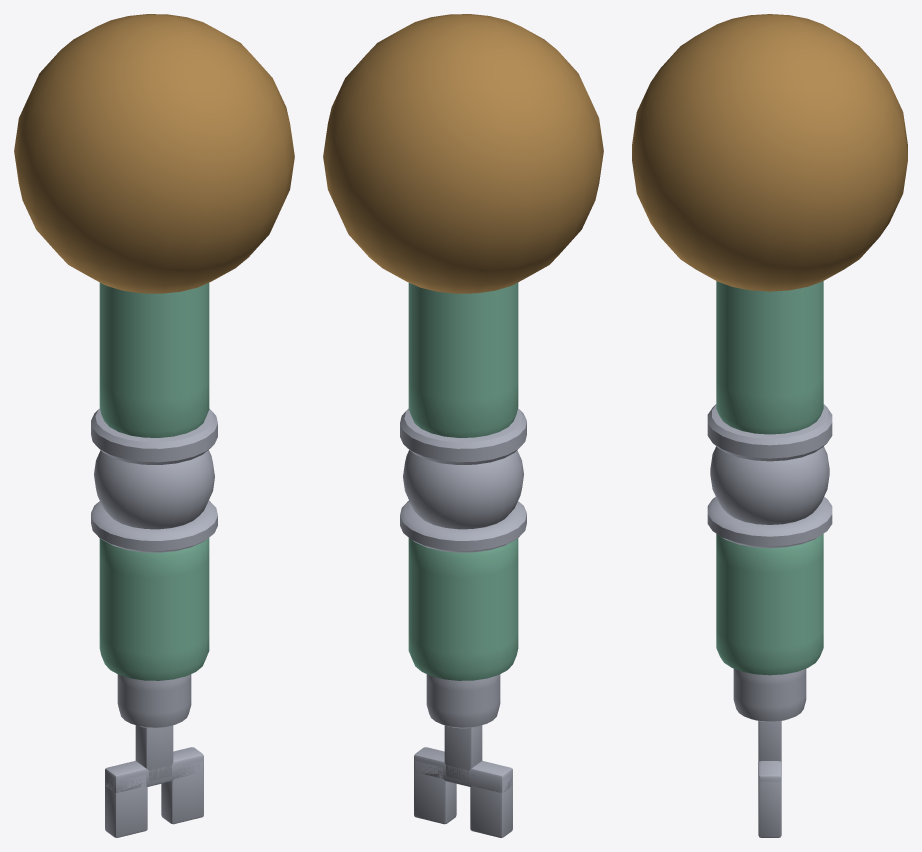
Rendered from Arm_Bot_R.fbx.
The picture shows the model from 3 angles, left to right: view 1: azimuth 30°, elevation 25°; view 2: azimuth 150°, elevation 25°; view 3: azimuth 270°, elevation 25°; orthographic projection.
Parts seen in each view (by area): view 1: Arm_Bot_R; view 2: Arm_Bot_R; view 3: Arm_Bot_R.
Part boxes in pixels (x1,y1,x2,y2): Arm_Bot_R: (14, 14, 294, 837); Arm_Bot_R: (323, 14, 603, 837); Arm_Bot_R: (632, 14, 907, 837).
Bounding box in the file's own units: 0.0608 × 0.1904 × 0.0602.
